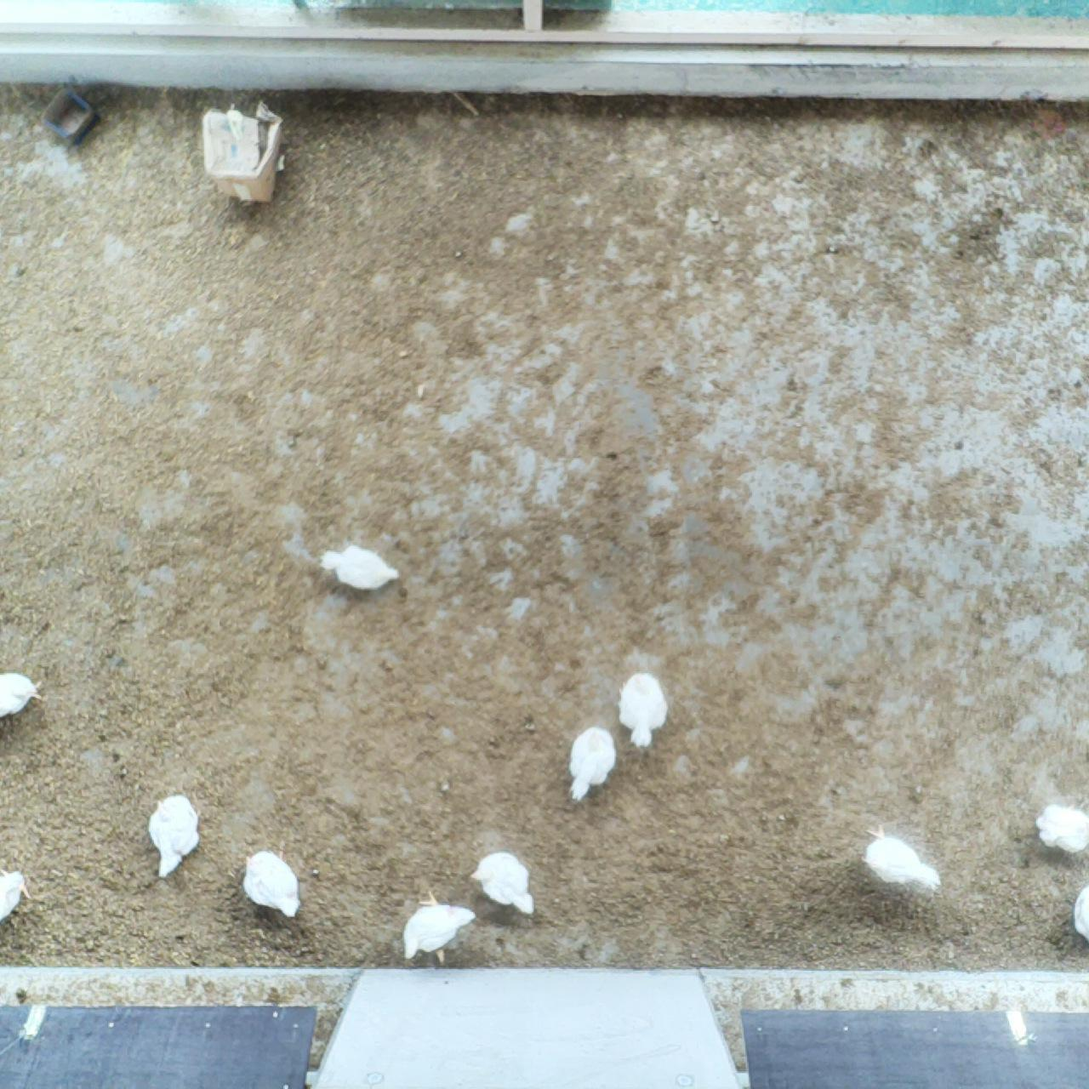chicken: (856, 817, 944, 895), (611, 665, 679, 751), (398, 895, 483, 961), (146, 786, 202, 882), (320, 538, 405, 599), (241, 844, 309, 919), (561, 720, 620, 804), (468, 847, 536, 919), (1033, 796, 1089, 857), (0, 663, 50, 724), (0, 862, 35, 926), (1065, 880, 1089, 937)
